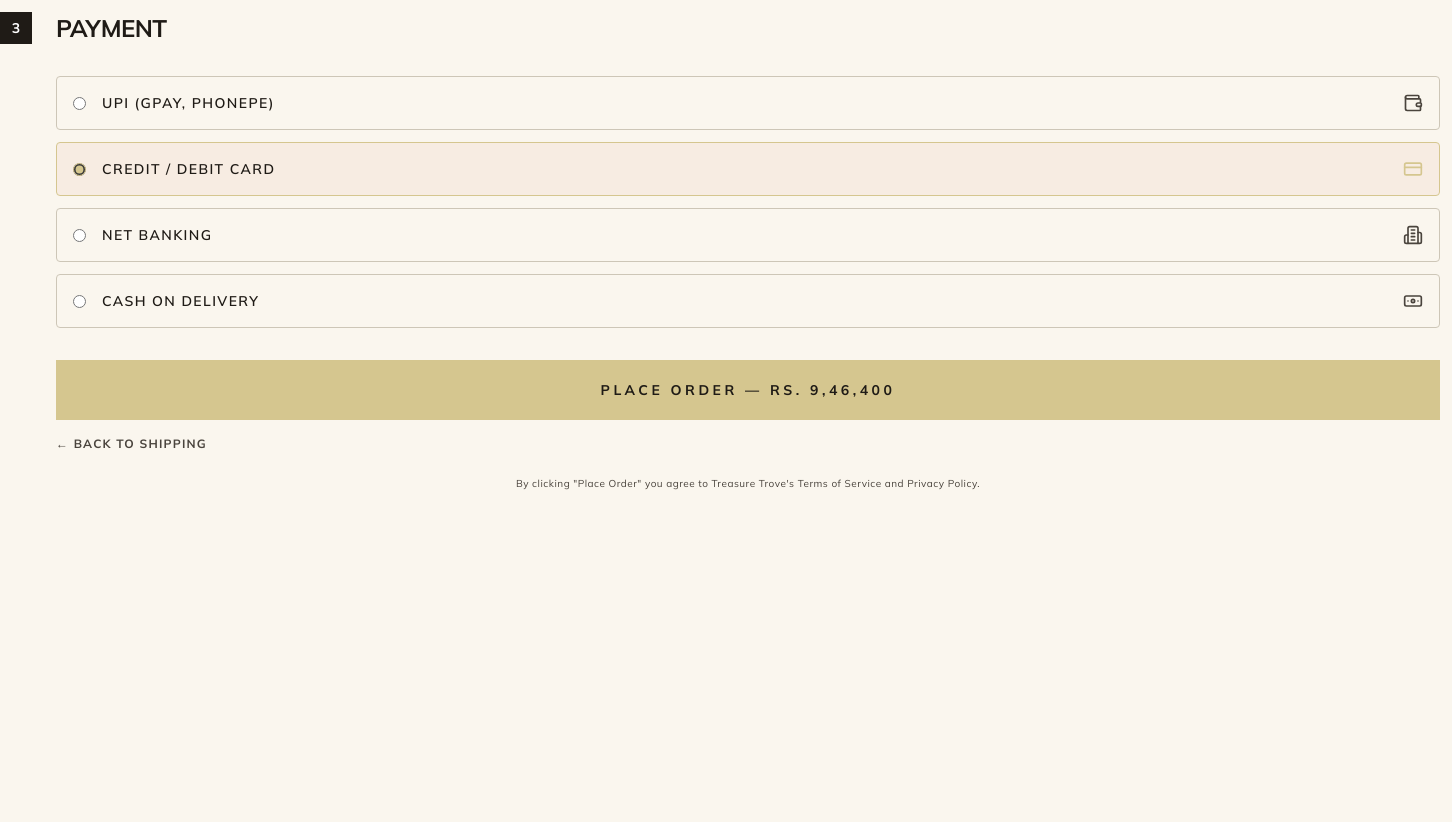
Test: PaymentStep › shows "Payment cancelled" and re-enables the button when the modal is dismissed
Click the button with test id "place-order-button". click: (748, 390)
box: [56,360,1440,420]
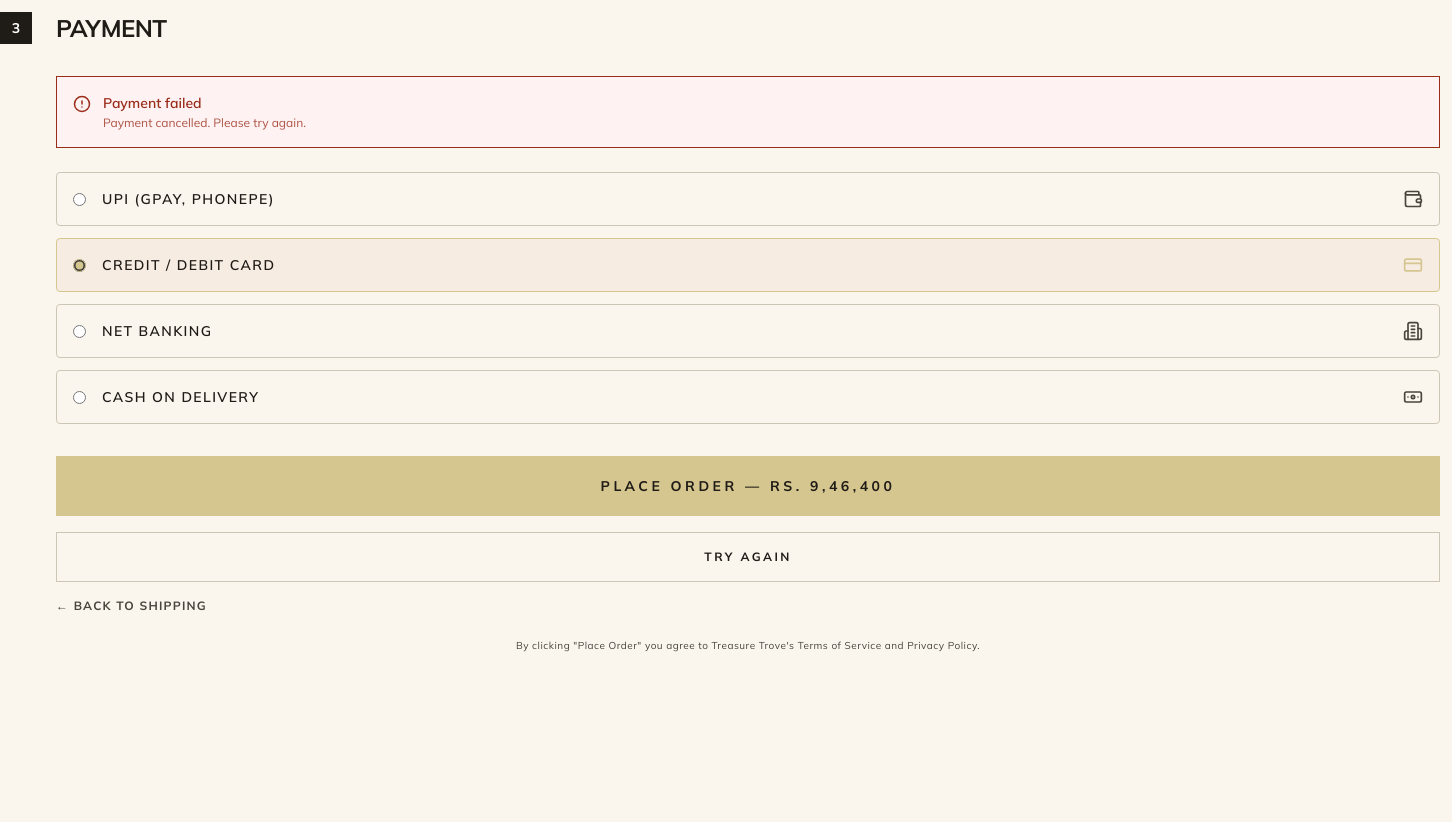
Expected: the button with test id "place-order-button" is enabled, [56,456,1440,516]
Expected: the message with test id "payment-error" shows "Payment cancelled. Please try again.", [103,115,306,130]
